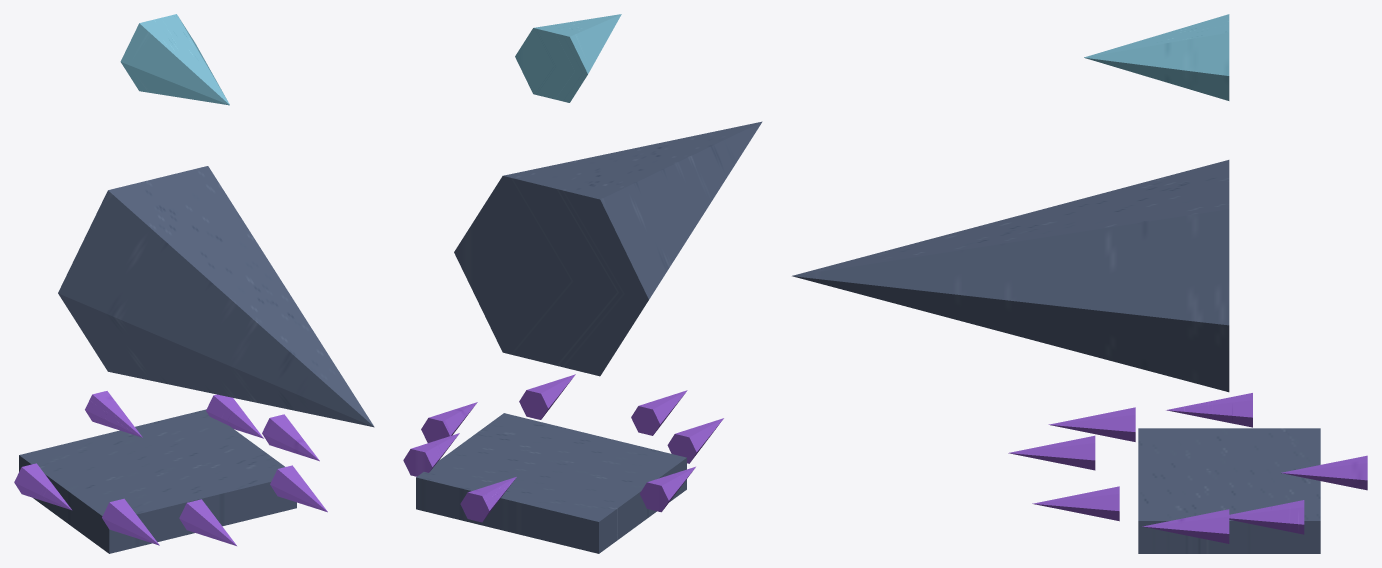
File: frost_waystone_lod0.glb
3 renders of one model, left to right at view 1: azimuth 30°, elevation 25°; view 2: azimuth 150°, elevation 25°; view 3: azimuth 270°, elevation 25°, orthographic. The views are drawn at different scales.
Visible parts, largest first — view 1: stone_1, stone_0, ice_2, spirit_3, spirit_4, spirit_6, spirit_7, spirit_9, spirit_5, spirit_8; view 2: stone_1, stone_0, ice_2, spirit_5, spirit_9, spirit_7, spirit_6, spirit_8, spirit_4, spirit_3; view 3: stone_1, stone_0, ice_2, spirit_9, spirit_3, spirit_5, spirit_6, spirit_4, spirit_7, spirit_8.
Part boxes in pixels (bbox=[...]): stone_1: bbox=[58, 166, 374, 427]; stone_0: bbox=[19, 409, 296, 553]; ice_2: bbox=[120, 14, 229, 105]; spirit_3: bbox=[262, 414, 319, 461]; spirit_4: bbox=[102, 498, 159, 545]; spirit_6: bbox=[270, 465, 327, 512]; spirit_7: bbox=[14, 463, 71, 510]; spirit_9: bbox=[179, 499, 236, 545]; spirit_5: bbox=[85, 391, 142, 437]; spirit_8: bbox=[206, 394, 263, 438]; stone_1: bbox=[454, 121, 762, 376]; stone_0: bbox=[416, 413, 686, 553]; ice_2: bbox=[515, 14, 621, 102]; spirit_5: bbox=[460, 477, 516, 522]; spirit_9: bbox=[631, 390, 687, 435]; spirit_7: bbox=[640, 466, 695, 512]; spirit_6: bbox=[519, 374, 575, 419]; spirit_8: bbox=[403, 433, 459, 476]; spirit_4: bbox=[667, 418, 723, 463]; spirit_3: bbox=[421, 402, 477, 442]; stone_1: bbox=[792, 160, 1229, 392]; stone_0: bbox=[1138, 428, 1320, 553]; ice_2: bbox=[1084, 14, 1229, 100]; spirit_9: bbox=[1008, 435, 1095, 470]; spirit_3: bbox=[1142, 509, 1229, 543]; spirit_5: bbox=[1281, 455, 1367, 490]; spirit_6: bbox=[1032, 486, 1119, 521]; spirit_4: bbox=[1048, 407, 1135, 441]; spirit_7: bbox=[1166, 393, 1252, 427]; spirit_8: bbox=[1229, 500, 1304, 534].
Size of the model in its own units: 4.25 by 7.32 by 7.89.
3 materials, 3 textured.
